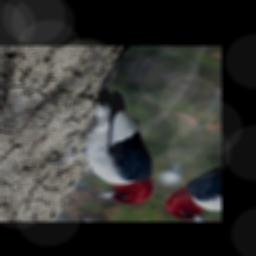Woodpecker: (31, 80, 202, 211)
